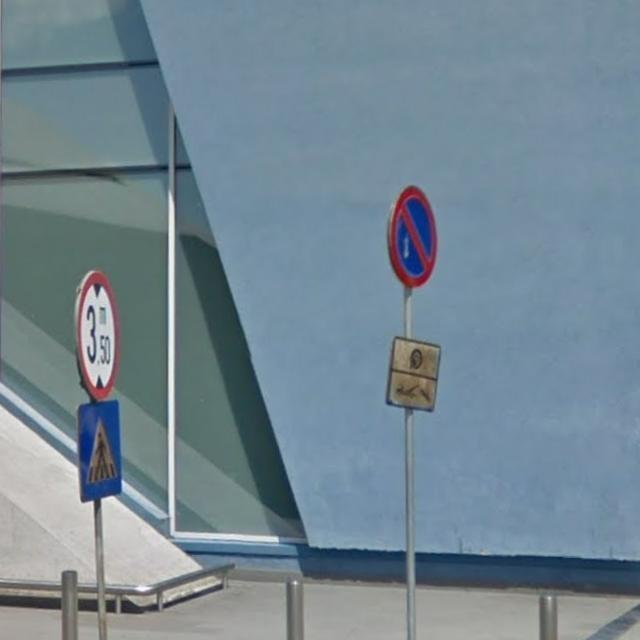info_crosswalk: (78, 400, 124, 501)
